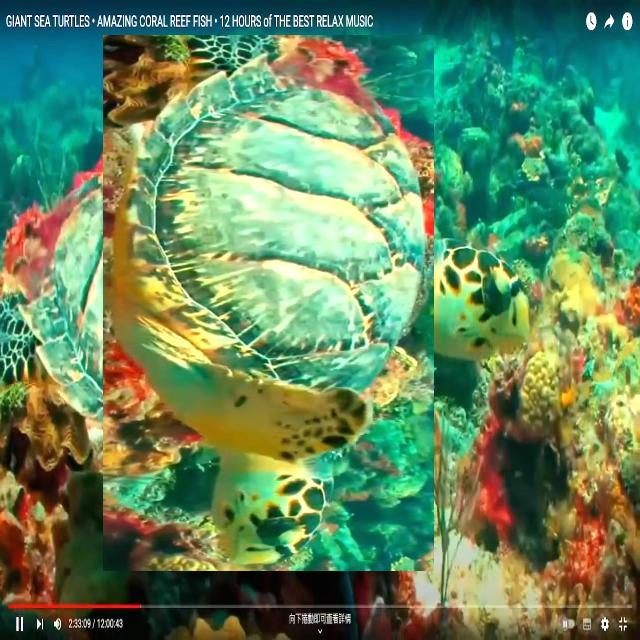Sea turtle: (51, 86, 485, 520)
